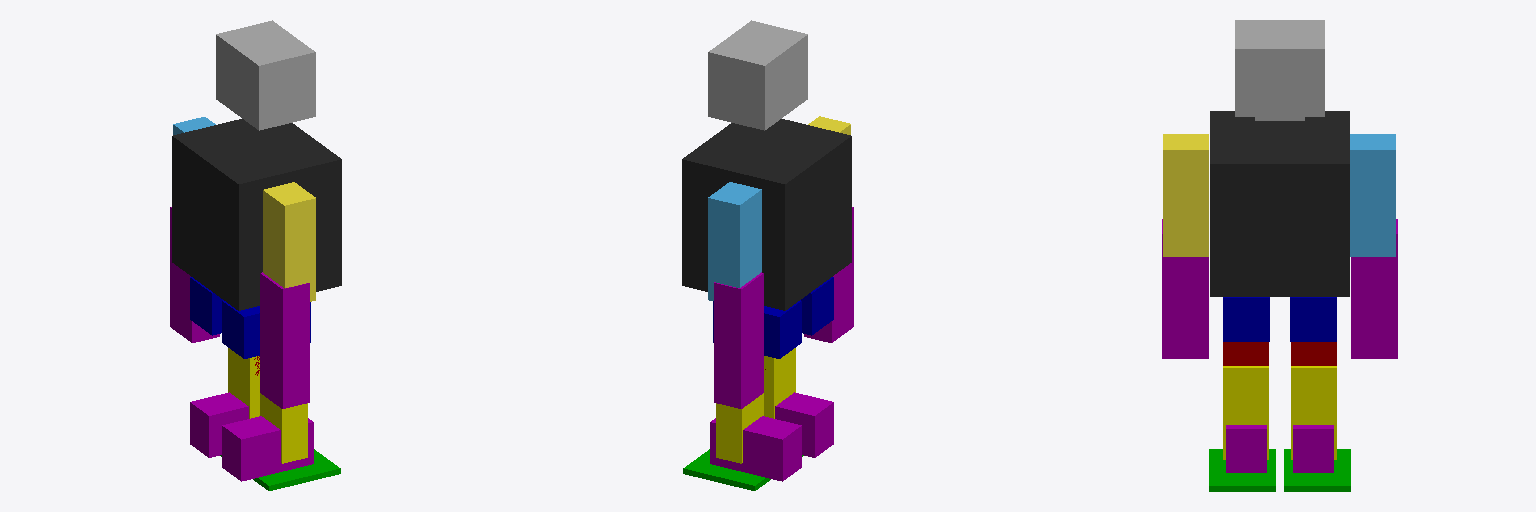
--- Render facts (derived) ---
The picture shows the robot from 3 angles, left to right: view 1: azimuth 30°, elevation 25°; view 2: azimuth 150°, elevation 25°; view 3: azimuth 270°, elevation 25°; orthographic projection.
Model soccerbot with 21 links and 20 joints (18 revolute, 2 fixed), rooted at /torso, posed all joints at 0.
Links seen in each view (by area): view 1: /torso, /head, /right_forearm, /right_bicep, /right_ankle, /left_ankle, /right_calve, /right_hip_front, /left_forearm, /left_calve, /right_foot, /left_hip_front; view 2: /torso, /head, /left_forearm, /left_bicep, /left_ankle, /right_ankle, /left_calve, /left_hip_front, /right_forearm, /right_calve, /left_foot, /right_hip_front; view 3: /torso, /head, /left_bicep, /right_bicep, /left_forearm, /right_forearm, /left_calve, /right_calve, /left_hip_front, /right_hip_front, /left_ankle, /right_ankle (+4 smaller).
Link boxes in pixels (x1=…): /torso: x1=172, y1=119, x2=341, y2=310; /head: x1=216, y1=20, x2=315, y2=130; /right_forearm: x1=260, y1=272, x2=309, y2=408; /right_bicep: x1=263, y1=182, x2=315, y2=301; /right_ankle: x1=222, y1=416, x2=313, y2=481; /left_ankle: x1=190, y1=392, x2=248, y2=457; /right_calve: x1=260, y1=393, x2=307, y2=463; /right_hip_front: x1=222, y1=300, x2=310, y2=358; /left_forearm: x1=170, y1=207, x2=219, y2=342; /left_calve: x1=228, y1=348, x2=259, y2=418; /right_foot: x1=253, y1=449, x2=340, y2=490; /left_hip_front: x1=190, y1=277, x2=222, y2=335; /torso: x1=682, y1=119, x2=851, y2=310; /head: x1=708, y1=20, x2=807, y2=130; /left_forearm: x1=714, y1=272, x2=763, y2=408; /left_bicep: x1=708, y1=182, x2=761, y2=300; /left_ankle: x1=710, y1=416, x2=801, y2=481; /right_ankle: x1=775, y1=392, x2=833, y2=457; /left_calve: x1=716, y1=393, x2=763, y2=463; /left_hip_front: x1=713, y1=300, x2=801, y2=358; /right_forearm: x1=804, y1=207, x2=853, y2=342; /right_calve: x1=764, y1=348, x2=795, y2=418; /left_foot: x1=683, y1=449, x2=770, y2=490; /right_hip_front: x1=801, y1=277, x2=833, y2=335; /torso: x1=1210, y1=111, x2=1349, y2=296; /head: x1=1235, y1=20, x2=1324, y2=116; /left_bicep: x1=1350, y1=134, x2=1395, y2=256; /right_bicep: x1=1163, y1=134, x2=1208, y2=256; /left_forearm: x1=1351, y1=219, x2=1397, y2=358; /right_forearm: x1=1162, y1=219, x2=1208, y2=358; /left_calve: x1=1291, y1=366, x2=1336, y2=459; /right_calve: x1=1223, y1=366, x2=1268, y2=459; /left_hip_front: x1=1290, y1=297, x2=1336, y2=341; /right_hip_front: x1=1223, y1=297, x2=1269, y2=341; /left_ankle: x1=1293, y1=425, x2=1333, y2=472; /right_ankle: x1=1226, y1=425, x2=1266, y2=472.
Bounding box of the posed robot: 0.13 × 0.245 × 0.4995 m (x, y, z).
Geometry: primitives only (box / cylinder / sphere), no mesh files.

robot.urdf — soccerbot:
<?xml version="1.0" ?>
<!-- =================================================================================== -->
<!-- |    This document was autogenerated by xacro from models/soccerbot.xacro         | -->
<!-- |    EDITING THIS FILE BY HAND IS NOT RECOMMENDED                                 | -->
<!-- =================================================================================== -->
<robot name="soccerbot">
  <material name="silver">
    <color rgba="0.7 0.7 0.7 1.0"/>
  </material>
  <material name="yellow">
    <color rgba="0.9 0.9 0.0 1.0"/>
  </material>
  <material name="red">
    <color rgba="0.7 0.0 0.0 1.0"/>
  </material>
  <material name="green">
    <color rgba="0.0 0.7 0.0 1.0"/>
  </material>
  <material name="blue">
    <color rgba="0.0 0.0 0.7 1.0"/>
  </material>
  <material name="purple">
    <color rgba="0.7 0.0 0.7 1.0"/>
  </material>
  <material name="cyan">
    <color rgba="0.0 0.7 0.7 1.0"/>
  </material>
  <material name="black">
    <color rgba="0.2 0.2 0.2 1.0"/>
  </material>
  <link name="/torso">
    <inertial>
      <mass value="1.529"/>
      <origin rpy="0 0 0" xyz="0.0082498 -0.0017440 -0.0522479"/>
      <inertia ixx="4.323e-3" ixy="5.549e-6" ixz="3.960e-5" iyy="5.198e-3" iyz="-1.509e-5" izz="3.567e-3"/>
    </inertial>
    <collision name="collision">
      <origin rpy="0 0 0" xyz="0 0 -0.052"/>
      <geometry>
        <box size="0.130 0.145 0.152"/>
      </geometry>
    </collision>
    <visual name="visual">
      <origin rpy="0 0 0" xyz="0 0 -0.052"/>
      <geometry>
        <box size="0.130 0.145 0.152"/>
      </geometry>
      <material name="black"/>
    </visual>
  </link>
  <link name="/left_bicep">
    <inertial>
      <mass value="0.000213"/>
      <origin rpy="0  0  0" xyz="0.000 0.02579 -0.04955"/>
      <inertia ixx="2.824e-4" ixy="0.000" ixz="0.0" iyy="2.744e-4" iyz="1.165e-05" izz="2.433e-5"/>
    </inertial>
    <collision name="collision">
      <origin rpy="0  0  0" xyz="0 0.0245 -0.05001"/>
      <geometry>
        <box size="0.04 0.04776 0.123"/>
      </geometry>
    </collision>
    <visual name="visual">
      <origin rpy="0  0  0" xyz="0 0.0245 -0.05001"/>
      <geometry>
        <box size="0.04 0.04776 0.123"/>
      </geometry>
      <material name="white"/>
    </visual>
  </link>
  <link name="/left_forearm">
    <inertial>
      <mass value="45.7e-3"/>
      <origin rpy="0  0  0" xyz="0 0.0245 -0.0546097"/>
      <inertia ixx="0.113e-3" ixy="0.000" ixz="1e-06" iyy="0.107e-3" iyz="0.0" izz="0.012e-3"/>
    </inertial>
    <collision name="collision">
      <origin rpy="0  0  0" xyz="-0.0055 0.0255 -0.0600"/>
      <geometry>
        <box size="0.035 0.049 0.144"/>
      </geometry>
    </collision>
    <visual name="visual">
      <origin rpy="0  0  0" xyz="-0.0055 0.0255 -0.0600"/>
      <geometry>
        <box size="0.035 0.049 0.144"/>
      </geometry>
      <material name="purple"/>
    </visual>
  </link>
  <joint name="left_arm_motor_0" type="revolute">
    <parent link="/torso"/>
    <child link="/left_bicep"/>
    <origin rpy="0 0 0" xyz="-0.0157 0.0725 0"/>
    <axis xyz="0 -1 0"/>
    <dynamics damping="0.01" friction="0.1"/>
    <limit effort="1.5" lower="-1.5707963267948966" upper="3.9269908169872414" velocity="1"/>
  </joint>
  <joint name="left_arm_motor_1" type="revolute">
    <parent link="/left_bicep"/>
    <child link="/left_forearm"/>
    <origin rpy="0 0 0" xyz="0 0 -0.10"/>
    <axis xyz="0 -1 0"/>
    <dynamics damping="0.01" friction="0.1"/>
    <limit effort="1.5" lower="0" upper="3.141592653589793" velocity="1"/>
  </joint>
  <gazebo reference="/left_forearm">
    <mu1>0.2</mu1>
    <mu2>0.2</mu2>
  </gazebo>
  <transmission name="left_arm_motor_0">
    <type>transmission_interface/SimpleTransmission</type>
    <joint name="left_arm_motor_0">
      <hardwareInterface>hardware_interface/EffortJointInterface</hardwareInterface>
    </joint>
    <actuator name="left_arm_motor_0">
      <hardwareInterface>hardware_interface/EffortJointInterface</hardwareInterface>
      <mechanicalReduction>1</mechanicalReduction>
    </actuator>
  </transmission>
  <transmission name="left_arm_motor_1">
    <type>transmission_interface/SimpleTransmission</type>
    <joint name="left_arm_motor_1">
      <hardwareInterface>hardware_interface/EffortJointInterface</hardwareInterface>
    </joint>
    <actuator name="left_arm_motor_1">
      <hardwareInterface>hardware_interface/EffortJointInterface</hardwareInterface>
      <mechanicalReduction>1</mechanicalReduction>
    </actuator>
  </transmission>
  <gazebo reference="/left_bicep">
    <kp>1000000000000000.0</kp>
    <kd>10000000000000.0</kd>
    <mu1>0.2</mu1>
    <mu2>0.2</mu2>
  </gazebo>
  <gazebo reference="/left_forearm">
    <kp>1000000000000000.0</kp>
    <kd>10000000000000.0</kd>
    <mu1>0.2</mu1>
    <mu2>0.2</mu2>
  </gazebo>
  <link name="/right_bicep">
    <inertial>
      <mass value="0.213e-3"/>
      <origin rpy="0  0  0" xyz="0.000 -0.02579 -0.04955"/>
      <inertia ixx="2.824e-4" ixy="0.000" ixz="-0.0" iyy="2.744e-4" iyz="-1.165e-05" izz="2.433e-5"/>
    </inertial>
    <collision name="collision">
      <origin rpy="0  0  0" xyz="0 -0.0255 -0.05001"/>
      <geometry>
        <box size="0.04 0.04776 0.123"/>
      </geometry>
    </collision>
    <visual name="visual">
      <origin rpy="0  0  0" xyz="0 -0.0255 -0.05001"/>
      <geometry>
        <box size="0.04 0.04776 0.123"/>
      </geometry>
      <material name="white"/>
    </visual>
  </link>
  <link name="/right_forearm">
    <inertial>
      <mass value="45.7e-3"/>
      <origin rpy="0  0  0" xyz="0 -0.0245 -0.0546097"/>
      <inertia ixx="0.113e-3" ixy="0.000" ixz="-1e-06" iyy="0.107e-3" iyz="-0.0" izz="0.012e-3"/>
    </inertial>
    <collision name="collision">
      <origin rpy="0  0  0" xyz="-0.0055 -0.0255 -0.0600"/>
      <geometry>
        <box size="0.035 0.049 0.144"/>
      </geometry>
    </collision>
    <visual name="visual">
      <origin rpy="0  0  0" xyz="-0.0055 -0.0255 -0.0600"/>
      <geometry>
        <box size="0.035 0.049 0.144"/>
      </geometry>
      <material name="purple"/>
    </visual>
  </link>
  <joint name="right_arm_motor_0" type="revolute">
    <parent link="/torso"/>
    <child link="/right_bicep"/>
    <origin rpy="0 0 0" xyz="-0.0157 -0.0725 0"/>
    <axis xyz="0 -1 0"/>
    <dynamics damping="0.01" friction="0.1"/>
    <limit effort="1.5" lower="-1.5707963267948966" upper="3.9269908169872414" velocity="1"/>
  </joint>
  <joint name="right_arm_motor_1" type="revolute">
    <parent link="/right_bicep"/>
    <child link="/right_forearm"/>
    <origin rpy="0 0 0" xyz="0 0 -0.10"/>
    <axis xyz="0 -1 0"/>
    <dynamics damping="0.01" friction="0.1"/>
    <limit effort="1.5" lower="0" upper="3.141592653589793" velocity="1"/>
  </joint>
  <gazebo reference="/right_forearm">
    <mu1>0.2</mu1>
    <mu2>0.2</mu2>
  </gazebo>
  <transmission name="right_arm_motor_0">
    <type>transmission_interface/SimpleTransmission</type>
    <joint name="right_arm_motor_0">
      <hardwareInterface>hardware_interface/EffortJointInterface</hardwareInterface>
    </joint>
    <actuator name="right_arm_motor_0">
      <hardwareInterface>hardware_interface/EffortJointInterface</hardwareInterface>
      <mechanicalReduction>1</mechanicalReduction>
    </actuator>
  </transmission>
  <transmission name="right_arm_motor_1">
    <type>transmission_interface/SimpleTransmission</type>
    <joint name="right_arm_motor_1">
      <hardwareInterface>hardware_interface/EffortJointInterface</hardwareInterface>
    </joint>
    <actuator name="right_arm_motor_1">
      <hardwareInterface>hardware_interface/EffortJointInterface</hardwareInterface>
      <mechanicalReduction>1</mechanicalReduction>
    </actuator>
  </transmission>
  <gazebo reference="/right_bicep">
    <kp>1000000000000000.0</kp>
    <kd>10000000000000.0</kd>
    <mu1>0.2</mu1>
    <mu2>0.2</mu2>
  </gazebo>
  <gazebo reference="/right_forearm">
    <kp>1000000000000000.0</kp>
    <kd>10000000000000.0</kd>
    <mu1>0.2</mu1>
    <mu2>0.2</mu2>
  </gazebo>
  <link name="/left_hip_side">
    <inertial>
      <mass value="9.364e-3"/>
      <origin rpy="0  0  0" xyz="0.0003695 0.0000 0.01689"/>
      <inertia ixx="0.002e-3" ixy="0.000" ixz="0.000" iyy="0.005e-3" iyz="0.000" izz="0.004e-3"/>
    </inertial>
    <collision name="collision">
      <origin rpy="0  0  0" xyz="0 0 0.028"/>
      <geometry>
        <box size="0.0485 0.022 0.0039"/>
      </geometry>
    </collision>
    <visual name="visual">
      <origin rpy="0  0  0" xyz="0 0 0.028"/>
      <geometry>
        <box size="0.0485 0.022 0.0039"/>
      </geometry>
      <material name="cyan"/>
    </visual>
  </link>
  <link name="/left_hip_front">
    <inertial>
      <mass value="153.186e-3"/>
      <origin rpy="0 0 0" xyz="-0.02093 0 -0.011313"/>
      <inertia ixx="0.041e-3" ixy="0.000" ixz="-0.002e-3" iyy="0.118e-3" iyz="0.000" izz="0.106e-3"/>
    </inertial>
    <collision name="collision">
      <origin rpy="0 0 0" xyz="-0.02187 0 -0.01332"/>
      <geometry>
        <box size="0.083747 0.04885 0.0506"/>
      </geometry>
    </collision>
    <visual name="visual">
      <origin rpy="0 0 0" xyz="-0.02187 0 -0.01332"/>
      <geometry>
        <box size="0.083747 0.04885 0.0506"/>
      </geometry>
      <material name="blue"/>
    </visual>
  </link>
  <link name="/left_thigh">
    <inertial>
      <mass value="21.438e-3"/>
      <origin rpy="0 0 0" xyz="0.0019422 0.0001419 -0.0469409"/>
      <inertia ixx="0.025e-3" ixy="2e-06" ixz="0.000" iyy="0.016e-3" iyz="0.000" izz="0.010e-3"/>
    </inertial>
    <collision name="collision">
      <origin rpy="0 0 0" xyz="0 0 -0.0445"/>
      <geometry>
        <box size="0.022 0.048 0.111"/>
      </geometry>
    </collision>
    <visual name="visual">
      <origin rpy="0 0 0" xyz="0 0 -0.0445"/>
      <geometry>
        <box size="0.022 0.048 0.111"/>
      </geometry>
      <material name="red"/>
    </visual>
  </link>
  <link name="/left_calve">
    <inertial>
      <mass value="86.547e-3"/>
      <origin rpy="0  0  0" xyz="0 -3.259e-07 -0.0150123e-3"/>
      <inertia ixx="0.054e-3" ixy="0.000" ixz="0.000" iyy="0.046e-3" iyz="-0.001e-3" izz="0.019e-3"/>
    </inertial>
    <collision name="collision">
      <origin rpy="0 0 0" xyz="0 0 -0.03385"/>
      <geometry>
        <box size="0.031883 0.048 0.105683"/>
      </geometry>
    </collision>
    <visual name="visual">
      <origin rpy="0 0 0" xyz="0 0 -0.03385"/>
      <geometry>
        <box size="0.031883 0.048 0.105683"/>
      </geometry>
      <material name="yellow"/>
    </visual>
  </link>
  <link name="/left_ankle">
    <inertial>
      <mass value="153.186e-3"/>
      <origin rpy="0 0 0" xyz="-0.020939e-3 0.000 0.011313e-3"/>
      <inertia ixx="0.041e-3" ixy="0.000" ixz="0.002e-3" iyy="0.118e-3" iyz="0.000" izz="0.106e-3"/>
    </inertial>
    <collision name="collision">
      <origin rpy="0 0 0" xyz="-0.02014 0 0.01031"/>
      <geometry>
        <box size="0.090769 0.042 0.0506"/>
      </geometry>
    </collision>
    <visual name="visual">
      <origin rpy="0 0 0" xyz="-0.02014 0 0.01031"/>
      <geometry>
        <box size="0.090769 0.042 0.0506"/>
      </geometry>
      <material name="purple"/>
    </visual>
  </link>
  <link name="/left_foot">
    <inertial>
      <mass value="23.216e-3"/>
      <origin rpy="0 0 0" xyz="-0.020939 0.0 0.011313"/>
      <inertia ixx="0.006e-3" ixy="0.000" ixz="0.000" iyy="0.018e-3" iyz="0.000" izz="0.022e-3"/>
    </inertial>
    <collision name="collision">
      <origin rpy="0 0 0" xyz="0.00385 0.00401 -0.02175 "/>
      <geometry>
        <box size="0.09 0.07 0.00674"/>
      </geometry>
      <contact_coefficients mu="100.0"/>
    </collision>
    <visual name="visual">
      <origin rpy="0 0 0" xyz="0.00385 0.00401 -0.02175 "/>
      <geometry>
        <box size="0.09 0.07 0.00674"/>
      </geometry>
      <material name="green"/>
    </visual>
  </link>
  <joint name="left_leg_motor_0" type="revolute">
    <parent link="/torso"/>
    <child link="/left_hip_side"/>
    <origin rpy="0 0 0" xyz="0.0135 0.035 -0.156"/>
    <axis xyz="0 0 -1"/>
    <dynamics damping="0.01" friction="0.1"/>
    <limit effort="2.5" lower="-1.309" upper="0.524" velocity="1"/>
  </joint>
  <joint name="left_leg_motor_1" type="revolute">
    <parent link="/left_hip_side"/>
    <child link="/left_hip_front"/>
    <origin rpy="0 0 0" xyz="0 0 0"/>
    <axis xyz="1 0 0"/>
    <dynamics damping="0.01" friction="0.1"/>
    <limit effort="2.5" lower="-0.7853981633974483" upper="1.5707963267948966" velocity="1"/>
  </joint>
  <joint name="left_leg_motor_2" type="revolute">
    <parent link="/left_hip_front"/>
    <child link="/left_thigh"/>
    <origin rpy="0 0 0" xyz="0 0 0"/>
    <axis xyz="0 -1 0"/>
    <dynamics damping="0.01" friction="0.1"/>
    <limit effort="2.5" lower="-0.7853981633974483" upper="2.356194490192345" velocity="1"/>
  </joint>
  <joint name="left_leg_motor_3" type="revolute">
    <parent link="/left_thigh"/>
    <child link="/left_calve"/>
    <origin rpy="0 0 0" xyz="0 0 -0.0890"/>
    <axis xyz="0 -1 0"/>
    <dynamics damping="0.01" friction="0.1"/>
    <limit effort="2.5" lower="-2.793" upper="0" velocity="1"/>
  </joint>
  <joint name="left_leg_motor_4" type="revolute">
    <parent link="/left_calve"/>
    <child link="/left_ankle"/>
    <origin rpy="0 0 0" xyz="0 0 -0.0827"/>
    <axis xyz="0 -1 0"/>
    <dynamics damping="0.01" friction="0.1"/>
    <limit effort="2.5" lower="-0.7853981633974483" upper="1.5707963267948966" velocity="1"/>
  </joint>
  <joint name="left_leg_motor_5" type="revolute">
    <parent link="/left_ankle"/>
    <child link="/left_foot"/>
    <origin rpy="0 0 0" xyz="0 0 0"/>
    <axis xyz="1 0 0"/>
    <dynamics damping="0.01" friction="0.1"/>
    <limit effort="2.5" lower="-0.7853981633974483" upper="0.7853981633974483" velocity="1"/>
  </joint>
  <transmission name="left_leg_motor_0">
    <type>transmission_interface/SimpleTransmission</type>
    <joint name="left_leg_motor_0">
      <hardwareInterface>hardware_interface/EffortJointInterface</hardwareInterface>
    </joint>
    <actuator name="left_leg_motor_0">
      <hardwareInterface>hardware_interface/EffortJointInterface</hardwareInterface>
      <mechanicalReduction>1</mechanicalReduction>
    </actuator>
  </transmission>
  <transmission name="left_leg_motor_1">
    <type>transmission_interface/SimpleTransmission</type>
    <joint name="left_leg_motor_1">
      <hardwareInterface>hardware_interface/EffortJointInterface</hardwareInterface>
    </joint>
    <actuator name="left_leg_motor_1">
      <hardwareInterface>hardware_interface/EffortJointInterface</hardwareInterface>
      <mechanicalReduction>1</mechanicalReduction>
    </actuator>
  </transmission>
  <transmission name="left_leg_motor_2">
    <type>transmission_interface/SimpleTransmission</type>
    <joint name="left_leg_motor_2">
      <hardwareInterface>hardware_interface/EffortJointInterface</hardwareInterface>
    </joint>
    <actuator name="left_leg_motor_2">
      <hardwareInterface>hardware_interface/EffortJointInterface</hardwareInterface>
      <mechanicalReduction>1</mechanicalReduction>
    </actuator>
  </transmission>
  <transmission name="left_leg_motor_3">
    <type>transmission_interface/SimpleTransmission</type>
    <joint name="left_leg_motor_3">
      <hardwareInterface>hardware_interface/EffortJointInterface</hardwareInterface>
    </joint>
    <actuator name="left_leg_motor_3">
      <hardwareInterface>hardware_interface/EffortJointInterface</hardwareInterface>
      <mechanicalReduction>1</mechanicalReduction>
    </actuator>
  </transmission>
  <transmission name="left_leg_motor_4">
    <type>transmission_interface/SimpleTransmission</type>
    <joint name="left_leg_motor_4">
      <hardwareInterface>hardware_interface/EffortJointInterface</hardwareInterface>
    </joint>
    <actuator name="left_leg_motor_4">
      <hardwareInterface>hardware_interface/EffortJointInterface</hardwareInterface>
      <mechanicalReduction>1</mechanicalReduction>
    </actuator>
  </transmission>
  <transmission name="left_leg_motor_5">
    <type>transmission_interface/SimpleTransmission</type>
    <joint name="left_leg_motor_5">
      <hardwareInterface>hardware_interface/EffortJointInterface</hardwareInterface>
    </joint>
    <actuator name="left_leg_motor_5">
      <hardwareInterface>hardware_interface/EffortJointInterface</hardwareInterface>
      <mechanicalReduction>1</mechanicalReduction>
    </actuator>
  </transmission>
  <gazebo reference="/left_hip_side">
    <kp>1000000000000000.0</kp>
    <kd>10000000000000.0</kd>
    <mu1>0.2</mu1>
    <mu2>0.2</mu2>
  </gazebo>
  <gazebo reference="/left_hip_front">
    <kp>1000000000000000.0</kp>
    <kd>10000000000000.0</kd>
    <mu1>0.2</mu1>
    <mu2>0.2</mu2>
  </gazebo>
  <gazebo reference="/left_thigh">
    <kp>1000000000000000.0</kp>
    <kd>10000000000000.0</kd>
    <mu1>0.2</mu1>
    <mu2>0.2</mu2>
  </gazebo>
  <gazebo reference="/left_calve">
    <kp>1000000000000000.0</kp>
    <kd>10000000000000.0</kd>
    <mu1>0.2</mu1>
    <mu2>0.2</mu2>
  </gazebo>
  <gazebo reference="/left_ankle">
    <kp>1000000000000000.0</kp>
    <kd>10000000000000.0</kd>
    <mu1>0.2</mu1>
    <mu2>0.2</mu2>
  </gazebo>
  <gazebo reference="/left_foot">
    <mu1>0.2</mu1>
    <mu2>0.2</mu2>
  </gazebo>
  <link name="/right_hip_side">
    <inertial>
      <mass value="9.364e-3"/>
      <origin rpy="0  0  0" xyz="0.0003695 0.0000 0.01689"/>
      <inertia ixx="0.002e-3" ixy="0.000" ixz="0.000" iyy="0.005e-3" iyz="0.000" izz="0.004e-3"/>
    </inertial>
    <collision name="collision">
      <origin rpy="0  0  0" xyz="0 0 0.028"/>
      <geometry>
        <box size="0.0485 0.022 0.0039"/>
      </geometry>
    </collision>
    <visual name="visual">
      <origin rpy="0  0  0" xyz="0 0 0.028"/>
      <geometry>
        <box size="0.0485 0.022 0.0039"/>
      </geometry>
      <material name="cyan"/>
    </visual>
  </link>
  <link name="/right_hip_front">
    <inertial>
      <mass value="153.186e-3"/>
      <origin rpy="0 0 0" xyz="-0.02093 0 -0.011313"/>
      <inertia ixx="0.041e-3" ixy="0.000" ixz="-0.002e-3" iyy="0.118e-3" iyz="0.000" izz="0.106e-3"/>
    </inertial>
    <collision name="collision">
      <origin rpy="0 0 0" xyz="-0.02187 0 -0.01332"/>
      <geometry>
        <box size="0.083747 0.04885 0.0506"/>
      </geometry>
    </collision>
    <visual name="visual">
      <origin rpy="0 0 0" xyz="-0.02187 0 -0.01332"/>
      <geometry>
        <box size="0.083747 0.04885 0.0506"/>
      </geometry>
      <material name="blue"/>
    </visual>
  </link>
  <link name="/right_thigh">
    <inertial>
      <mass value="21.438e-3"/>
      <origin rpy="0 0 0" xyz="0.0019422 -0.0001419 -0.0469409"/>
      <inertia ixx="0.025e-3" ixy="-2e-06" ixz="0.000" iyy="0.016e-3" iyz="0.000" izz="0.010e-3"/>
    </inertial>
    <collision name="collision">
      <origin rpy="0 0 0" xyz="0 0 -0.0445"/>
      <geometry>
        <box size="0.022 0.048 0.111"/>
      </geometry>
    </collision>
    <visual name="visual">
      <origin rpy="0 0 0" xyz="0 0 -0.0445"/>
      <geometry>
        <box size="0.022 0.048 0.111"/>
      </geometry>
      <material name="red"/>
    </visual>
  </link>
  <link name="/right_calve">
    <inertial>
      <mass value="86.547e-3"/>
      <origin rpy="0  0  0" xyz="0 3.259e-07 -0.0150123e-3"/>
      <inertia ixx="0.054e-3" ixy="0.000" ixz="0.000" iyy="0.046e-3" iyz="-0.001e-3" izz="0.019e-3"/>
    </inertial>
    <collision name="collision">
      <origin rpy="0 0 0" xyz="0 0 -0.03385"/>
      <geometry>
        <box size="0.031883 0.048 0.105683"/>
      </geometry>
    </collision>
    <visual name="visual">
      <origin rpy="0 0 0" xyz="0 0 -0.03385"/>
      <geometry>
        <box size="0.031883 0.048 0.105683"/>
      </geometry>
      <material name="yellow"/>
    </visual>
  </link>
  <link name="/right_ankle">
    <inertial>
      <mass value="153.186e-3"/>
      <origin rpy="0 0 0" xyz="-0.020939e-3 0.000 0.011313e-3"/>
      <inertia ixx="0.041e-3" ixy="0.000" ixz="0.002e-3" iyy="0.118e-3" iyz="0.000" izz="0.106e-3"/>
    </inertial>
    <collision name="collision">
      <origin rpy="0 0 0" xyz="-0.02014 0 0.01031"/>
      <geometry>
        <box size="0.090769 0.042 0.0506"/>
      </geometry>
    </collision>
    <visual name="visual">
      <origin rpy="0 0 0" xyz="-0.02014 0 0.01031"/>
      <geometry>
        <box size="0.090769 0.042 0.0506"/>
      </geometry>
      <material name="purple"/>
    </visual>
  </link>
  <link name="/right_foot">
    <inertial>
      <mass value="23.216e-3"/>
      <origin rpy="0 0 0" xyz="-0.020939 0.0 0.011313"/>
      <inertia ixx="0.006e-3" ixy="0.000" ixz="0.000" iyy="0.018e-3" iyz="0.000" izz="0.022e-3"/>
    </inertial>
    <collision name="collision">
      <origin rpy="0 0 0" xyz="0.00385 -0.00401 -0.02175 "/>
      <geometry>
        <box size="0.09 0.07 0.00674"/>
      </geometry>
      <contact_coefficients mu="100.0"/>
    </collision>
    <visual name="visual">
      <origin rpy="0 0 0" xyz="0.00385 -0.00401 -0.02175 "/>
      <geometry>
        <box size="0.09 0.07 0.00674"/>
      </geometry>
      <material name="green"/>
    </visual>
  </link>
  <joint name="right_leg_motor_0" type="revolute">
    <parent link="/torso"/>
    <child link="/right_hip_side"/>
    <origin rpy="0 0 0" xyz="0.0135 -0.035 -0.156"/>
    <axis xyz="0 0 1"/>
    <dynamics damping="0.01" friction="0.1"/>
    <limit effort="2.5" lower="-1.309" upper="0.524" velocity="1"/>
  </joint>
  <joint name="right_leg_motor_1" type="revolute">
    <parent link="/right_hip_side"/>
    <child link="/right_hip_front"/>
    <origin rpy="0 0 0" xyz="0 0 0"/>
    <axis xyz="-1 0 0"/>
    <dynamics damping="0.01" friction="0.1"/>
    <limit effort="2.5" lower="-0.7853981633974483" upper="1.5707963267948966" velocity="1"/>
  </joint>
  <joint name="right_leg_motor_2" type="revolute">
    <parent link="/right_hip_front"/>
    <child link="/right_thigh"/>
    <origin rpy="0 0 0" xyz="0 0 0"/>
    <axis xyz="0 -1 0"/>
    <dynamics damping="0.01" friction="0.1"/>
    <limit effort="2.5" lower="-0.7853981633974483" upper="2.356194490192345" velocity="1"/>
  </joint>
  <joint name="right_leg_motor_3" type="revolute">
    <parent link="/right_thigh"/>
    <child link="/right_calve"/>
    <origin rpy="0 0 0" xyz="0 0 -0.0890"/>
    <axis xyz="0 -1 0"/>
    <dynamics damping="0.01" friction="0.1"/>
    <limit effort="2.5" lower="-2.793" upper="0" velocity="1"/>
  </joint>
  <joint name="right_leg_motor_4" type="revolute">
    <parent link="/right_calve"/>
    <child link="/right_ankle"/>
    <origin rpy="0 0 0" xyz="0 0 -0.0827"/>
    <axis xyz="0 -1 0"/>
    <dynamics damping="0.01" friction="0.1"/>
    <limit effort="2.5" lower="-0.7853981633974483" upper="1.5707963267948966" velocity="1"/>
  </joint>
  <joint name="right_leg_motor_5" type="revolute">
    <parent link="/right_ankle"/>
    <child link="/right_foot"/>
    <origin rpy="0 0 0" xyz="0 0 0"/>
    <axis xyz="-1 0 0"/>
    <dynamics damping="0.01" friction="0.1"/>
    <limit effort="2.5" lower="-0.7853981633974483" upper="0.7853981633974483" velocity="1"/>
  </joint>
  <transmission name="right_leg_motor_0">
    <type>transmission_interface/SimpleTransmission</type>
    <joint name="right_leg_motor_0">
      <hardwareInterface>hardware_interface/EffortJointInterface</hardwareInterface>
    </joint>
    <actuator name="right_leg_motor_0">
      <hardwareInterface>hardware_interface/EffortJointInterface</hardwareInterface>
      <mechanicalReduction>1</mechanicalReduction>
    </actuator>
  </transmission>
  <transmission name="right_leg_motor_1">
    <type>transmission_interface/SimpleTransmission</type>
    <joint name="right_leg_motor_1">
      <hardwareInterface>hardware_interface/EffortJointInterface</hardwareInterface>
    </joint>
    <actuator name="right_leg_motor_1">
      <hardwareInterface>hardware_interface/EffortJointInterface</hardwareInterface>
      <mechanicalReduction>1</mechanicalReduction>
    </actuator>
  </transmission>
  <transmission name="right_leg_motor_2">
    <type>transmission_interface/SimpleTransmission</type>
    <joint name="right_leg_motor_2">
      <hardwareInterface>hardware_interface/EffortJointInterface</hardwareInterface>
    </joint>
    <actuator name="right_leg_motor_2">
      <hardwareInterface>hardware_interface/EffortJointInterface</hardwareInterface>
      <mechanicalReduction>1</mechanicalReduction>
    </actuator>
  </transmission>
  <transmission name="right_leg_motor_3">
    <type>transmission_interface/SimpleTransmission</type>
    <joint name="right_leg_motor_3">
      <hardwareInterface>hardware_interface/EffortJointInterface</hardwareInterface>
    </joint>
    <actuator name="right_leg_motor_3">
      <hardwareInterface>hardware_interface/EffortJointInterface</hardwareInterface>
      <mechanicalReduction>1</mechanicalReduction>
    </actuator>
  </transmission>
  <transmission name="right_leg_motor_4">
    <type>transmission_interface/SimpleTransmission</type>
    <joint name="right_leg_motor_4">
      <hardwareInterface>hardware_interface/EffortJointInterface</hardwareInterface>
    </joint>
    <actuator name="right_leg_motor_4">
      <hardwareInterface>hardware_interface/EffortJointInterface</hardwareInterface>
      <mechanicalReduction>1</mechanicalReduction>
    </actuator>
  </transmission>
  <transmission name="right_leg_motor_5">
    <type>transmission_interface/SimpleTransmission</type>
    <joint name="right_leg_motor_5">
      <hardwareInterface>hardware_interface/EffortJointInterface</hardwareInterface>
    </joint>
    <actuator name="right_leg_motor_5">
      <hardwareInterface>hardware_interface/EffortJointInterface</hardwareInterface>
      <mechanicalReduction>1</mechanicalReduction>
    </actuator>
  </transmission>
  <gazebo reference="/right_hip_side">
    <kp>1000000000000000.0</kp>
    <kd>10000000000000.0</kd>
    <mu1>0.2</mu1>
    <mu2>0.2</mu2>
  </gazebo>
  <gazebo reference="/right_hip_front">
    <kp>1000000000000000.0</kp>
    <kd>10000000000000.0</kd>
    <mu1>0.2</mu1>
    <mu2>0.2</mu2>
  </gazebo>
  <gazebo reference="/right_thigh">
    <kp>1000000000000000.0</kp>
    <kd>10000000000000.0</kd>
    <mu1>0.2</mu1>
    <mu2>0.2</mu2>
  </gazebo>
  <gazebo reference="/right_calve">
    <kp>1000000000000000.0</kp>
    <kd>10000000000000.0</kd>
    <mu1>0.2</mu1>
    <mu2>0.2</mu2>
  </gazebo>
  <gazebo reference="/right_ankle">
    <kp>1000000000000000.0</kp>
    <kd>10000000000000.0</kd>
    <mu1>0.2</mu1>
    <mu2>0.2</mu2>
  </gazebo>
  <gazebo reference="/right_foot">
    <mu1>0.2</mu1>
    <mu2>0.2</mu2>
  </gazebo>
  <link name="/neck">
    <inertial>
      <mass value="0.011294"/>
      <origin rpy="0  0  0" xyz="0 -0.0006476 0.0092453"/>
      <inertia ixx="5.489e-6" ixy="0" ixz="0" iyy="1.433e-6" iyz="0" izz="4.955e-6"/>
    </inertial>
    <collision name="collision">
      <origin rpy="0  0  0" xyz="0 0 0.0165"/>
      <geometry>
        <box size="0.022 0.0523 0.033"/>
      </geometry>
    </collision>
    <visual name="visual">
      <origin rpy="0  0  0" xyz="0 0 0.0165"/>
      <geometry>
        <box size="0.022 0.0523 0.033"/>
      </geometry>
      <material name="silver"/>
    </visual>
  </link>
  <link name="/head">
    <inertial>
      <mass value="0.282"/>
      <origin rpy="0  0  0" xyz="0.0237166 0.0018096 0.0255966"/>
      <inertia ixx="2.06e-4" ixy="1.06e-6" ixz="-5.73e-5" iyy="2.057e-4" iyz="2.534e-6" izz="1.603e-4"/>
    </inertial>
    <collision name="collision">
      <origin rpy="0  0  0" xyz="-0.013 0 0.025"/>
      <geometry>
        <box size="0.0712 0.094 0.0779"/>
      </geometry>
    </collision>
    <visual name="visual">
      <origin rpy="0  0  0" xyz="-0.013 0 0.025"/>
      <geometry>
        <box size="0.0712 0.094 0.0779"/>
      </geometry>
      <material name="silver"/>
    </visual>
  </link>
  <joint name="head_motor_0" type="revolute">
    <parent link="/torso"/>
    <child link="/neck"/>
    <origin rpy="0 0 0" xyz="0.024 0 0.05875"/>
    <axis xyz="0 0 1"/>
    <dynamics damping="0.01" friction="0.1"/>
    <limit effort="1.5" lower="-1.5707963267948966" upper="1.5707963267948966" velocity="1"/>
  </joint>
  <joint name="head_motor_1" type="revolute">
    <parent link="/neck"/>
    <child link="/head"/>
    <origin rpy="0 0 0" xyz="0 0 0.024"/>
    <axis xyz="0 1 0"/>
    <dynamics damping="0.01" friction="0.1"/>
    <limit effort="1.5" lower="-2.356194490192345" upper="2.356194490192345" velocity="1"/>
  </joint>
  <transmission name="head_motor_0">
    <type>transmission_interface/SimpleTransmission</type>
    <joint name="head_motor_0">
      <hardwareInterface>hardware_interface/EffortJointInterface</hardwareInterface>
    </joint>
    <actuator name="head_motor_0">
      <hardwareInterface>hardware_interface/EffortJointInterface</hardwareInterface>
      <mechanicalReduction>1</mechanicalReduction>
    </actuator>
  </transmission>
  <transmission name="head_motor_1">
    <type>transmission_interface/SimpleTransmission</type>
    <joint name="head_motor_1">
      <hardwareInterface>hardware_interface/EffortJointInterface</hardwareInterface>
    </joint>
    <actuator name="head_motor_1">
      <hardwareInterface>hardware_interface/EffortJointInterface</hardwareInterface>
      <mechanicalReduction>1</mechanicalReduction>
    </actuator>
  </transmission>
  <gazebo reference="/neck">
    <kp>1000000000000000.0</kp>
    <kd>10000000000000.0</kd>
    <mu1>0.2</mu1>
    <mu2>0.2</mu2>
  </gazebo>
  <gazebo reference="/head">
    <kp>1000000000000000.0</kp>
    <kd>10000000000000.0</kd>
    <mu1>0.2</mu1>
    <mu2>0.2</mu2>
  </gazebo>
  <link name="/imu_link">
    <inertial>
      <mass value="0.01"/>
      <origin rpy="0  0  0" xyz="0 0 0"/>
      <inertia ixx="1e-9" ixy="0" ixz="0" iyy="1e-9" iyz="0" izz="1e-9"/>
    </inertial>
  </link>
  <joint name="/torso_imu" type="fixed">
    <parent link="/torso"/>
    <child link="/imu_link"/>
    <origin rpy="0 0 0" xyz="0.0 0 0.0"/>
    <axis xyz="0 0 0"/>
  </joint>
  <gazebo reference="/imu_link">
    <gravity>true</gravity>
    <sensor name="imu_sensor" type="imu">
      <always_on>true</always_on>
      <update_rate>100</update_rate>
      <visualize>true</visualize>
      <topic>__default_topic__</topic>
      <plugin filename="libgazebo_ros_imu_sensor.so" name="imu_plugin">
        <topicName>imu_raw</topicName>
        <bodyName>imu_link</bodyName>
        <updateRateHZ>50.0</updateRateHZ>
        <gaussianNoise>0.0</gaussianNoise>
        <xyzOffset>0 0 0</xyzOffset>
        <rpyOffset>0 0 0</rpyOffset>
        <frameName>imu_link</frameName>
      </plugin>
      <pose>0 0 0 0 0 0</pose>
    </sensor>
  </gazebo>
  <gazebo reference="/imu_link">
    <kp>1000000000000000.0</kp>
    <kd>10000000000000.0</kd>
    <mu1>0.2</mu1>
    <mu2>0.2</mu2>
  </gazebo>
  <link name="/camera">
    <inertial>
      <mass value="0.01"/>
      <origin rpy="0  0  0" xyz="0 0 0"/>
      <inertia ixx="1e-9" ixy="0" ixz="0" iyy="1e-9" iyz="0" izz="1e-9"/>
    </inertial>
  </link>
  <joint name="/head_camera" type="fixed">
    <parent link="/head"/>
    <child link="/camera"/>
    <origin rpy="0 0 0" xyz="0.015 0.00145 0.04740"/>
    <axis xyz="0  0  0"/>
    <dynamics damping="0.01" friction="0.1"/>
    <limit effort="0" lower="0" upper="0" velocity="0"/>
  </joint>
  <gazebo reference="/camera">
    <sensor name="main_camera" type="camera">
      <always_on>1</always_on>
      <visualize>1</visualize>
      <update_rate>30</update_rate>
      <camera>
        <horizontal_fov>1.39626</horizontal_fov>
        <image>
          <width>640</width>
          <height>480</height>
          <format>R8G8B8</format>
        </image>
        <clip>
          <near>0.2</near>
          <far>10</far>
        </clip>
        <noise>
          <type>gaussian</type>
          <mean>0</mean>
          <stddev>0.007</stddev>
        </noise>
      </camera>
      <plugin filename="libgazebo_ros_camera.so" name="camera_controller">
        <alwaysOn>true</alwaysOn>
        <updateRate>0.0</updateRate>
        <cameraName>camera</cameraName>
        <imageTopicName>image_raw</imageTopicName>
        <cameraInfoTopicName>camera_info</cameraInfoTopicName>
        <frameName>camera_link</frameName>
        <hackBaseline>0.07</hackBaseline>
        <distortionK1>0.0</distortionK1>
        <distortionK2>0.0</distortionK2>
        <distortionK3>0.0</distortionK3>
        <distortionT1>0.0</distortionT1>
        <distortionT2>0.0</distortionT2>
      </plugin>
    </sensor>
  </gazebo>
  <gazebo reference="/camera">
    <kp>1000000000000000.0</kp>
    <kd>10000000000000.0</kd>
    <mu1>0.2</mu1>
    <mu2>0.2</mu2>
  </gazebo>
  <gazebo>
    <plugin filename="libgazebo_ros_control.so" name="gazebo_ros_control">
      <robotNamespace>/</robotNamespace>
      <robotSimType>gazebo_ros_control/DefaultRobotHWSim</robotSimType>
    </plugin>
    <plugin filename="libgazebo_ros_p3d.so" name="p3d_base_controller">
      <alwaysOn>true</alwaysOn>
      <updateRate>50.0</updateRate>
      <bodyName>base_footprint</bodyName>
      <topicName>odom_ground_truth</topicName>
      <gaussianNoise>0.01</gaussianNoise>
      <frameName>world</frameName>
      <xyzOffsets>0 0 0</xyzOffsets>
      <rpyOffsets>0 0 0</rpyOffsets>
    </plugin>
  </gazebo>
  <gazebo reference="/torso">
    <kp>1000000000000000.0</kp>
    <kd>10000000000000.0</kd>
    <mu1>0.2</mu1>
    <mu2>0.2</mu2>
  </gazebo>
</robot>
